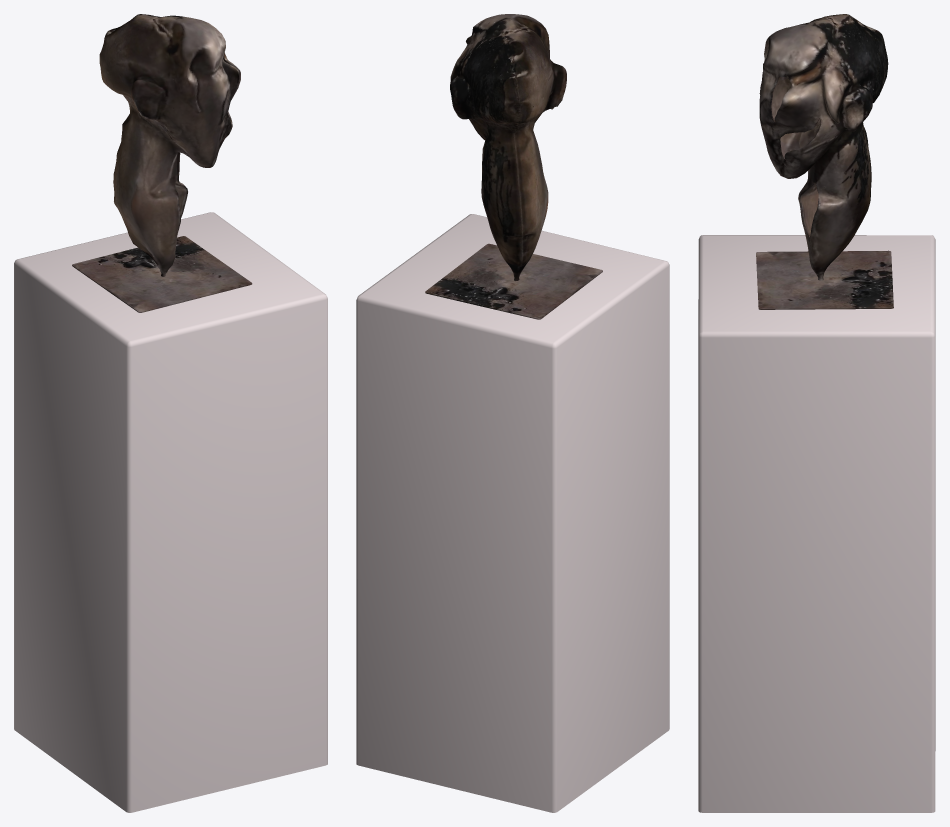
File: 4-melnikovplastikatrio-3.fbx
3 views of the same model, side by side, from view 1: azimuth 30°, elevation 25°; view 2: azimuth 150°, elevation 25°; view 3: azimuth 270°, elevation 25° (orthographic). The views are drawn at different scales.
Parts seen in each view (by area): view 1: 4-melnikovplastikatrio-3; view 2: 4-melnikovplastikatrio-3; view 3: 4-melnikovplastikatrio-3.
Part boxes in pixels (box(x1,y1,x2,y2)): 4-melnikovplastikatrio-3: box(14, 14, 327, 812); 4-melnikovplastikatrio-3: box(356, 14, 669, 812); 4-melnikovplastikatrio-3: box(698, 14, 935, 812).
Bounding box in the file's own units: 53.77 × 186 × 53.77.
